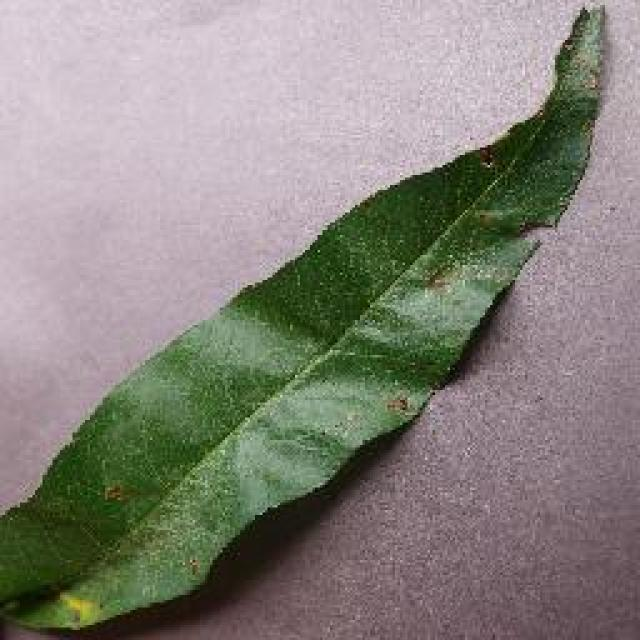Peach_Bacterial_Spot: (293, 198, 520, 377)
